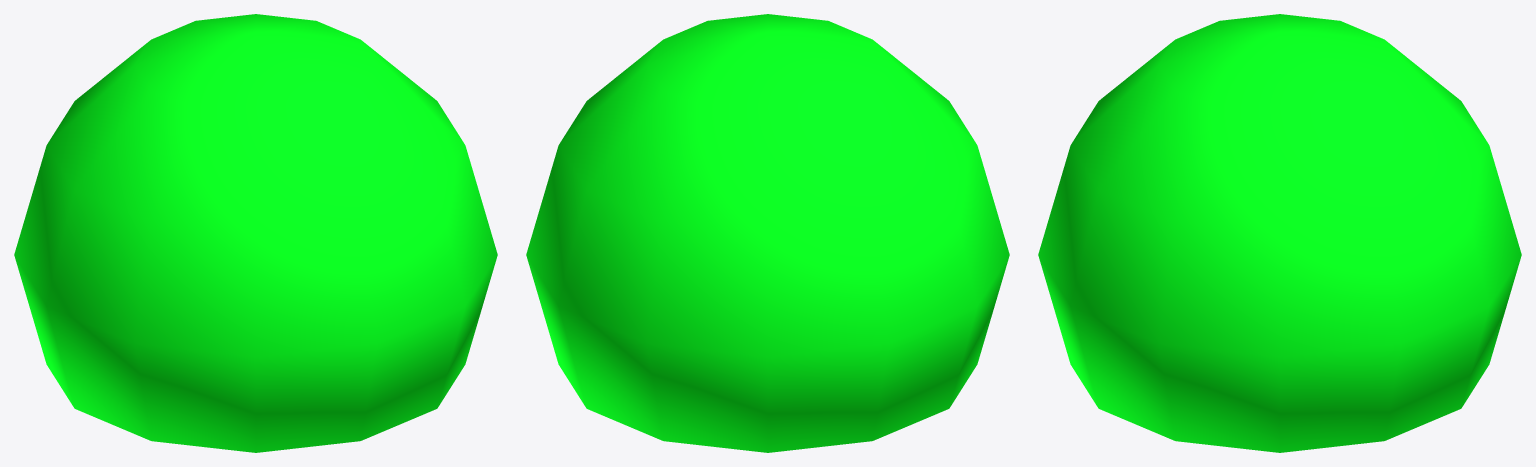
Rendered from Slime.glb.
The picture shows the model from 3 angles, left to right: view 1: azimuth 30°, elevation 25°; view 2: azimuth 150°, elevation 25°; view 3: azimuth 270°, elevation 25°; orthographic projection.
Visible parts, largest first — view 1: Sphere; view 2: Sphere; view 3: Sphere.
Part boxes in pixels (x1,y1,x2,y2): Sphere: [14, 14, 497, 452]; Sphere: [526, 14, 1009, 452]; Sphere: [1038, 14, 1521, 452].
Size of the model in its own units: 1.02 by 0.7673 by 1.02.
